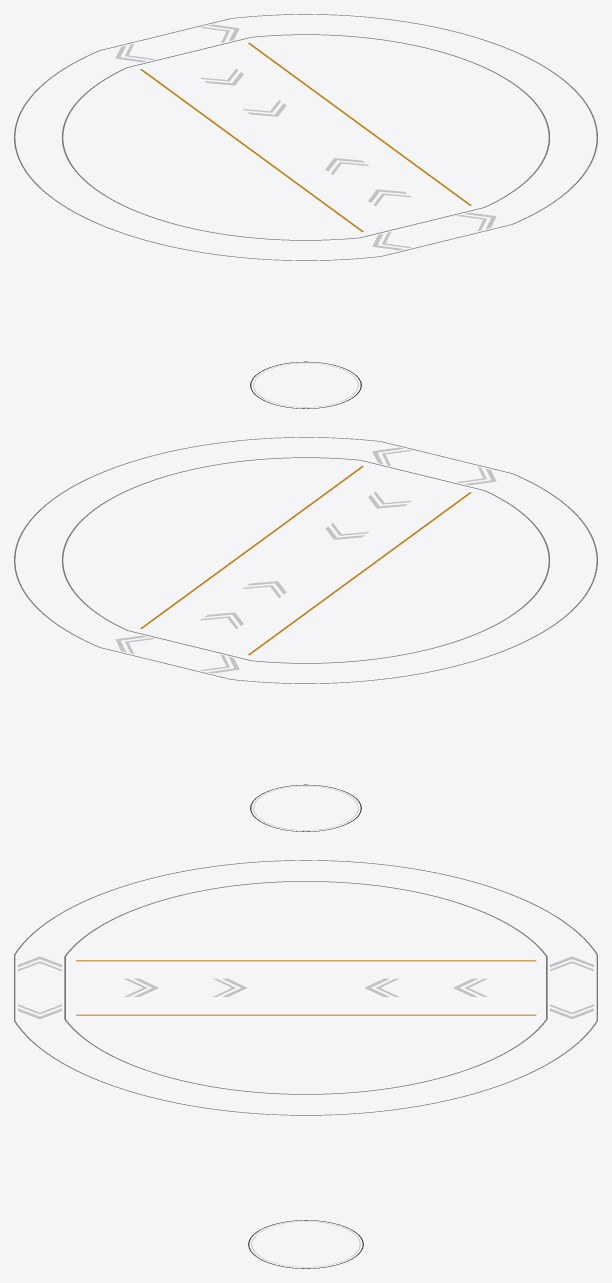
The picture shows the model from 3 angles, top to bottom: view 1: azimuth 30°, elevation 25°; view 2: azimuth 150°, elevation 25°; view 3: azimuth 270°, elevation 25°; orthographic projection. The views are drawn at different scales.
Parts seen in each view (by area): view 1: SM_H_Building_FutureTech_HOrange_01_InterWall_05C; view 2: SM_H_Building_FutureTech_HOrange_01_InterWall_05C; view 3: SM_H_Building_FutureTech_HOrange_01_InterWall_05C.
Boxes of the visible parts, box(x1,y1,x2,y2) form: SM_H_Building_FutureTech_HOrange_01_InterWall_05C: box(14, 14, 597, 408); SM_H_Building_FutureTech_HOrange_01_InterWall_05C: box(14, 437, 597, 831); SM_H_Building_FutureTech_HOrange_01_InterWall_05C: box(14, 860, 597, 1268).
Bounding box in the file's own units: 760 × 787 × 369.
